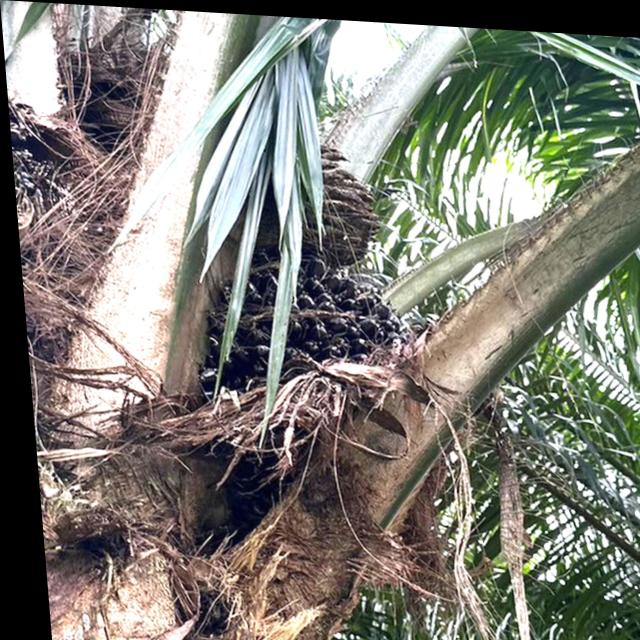unripe: (187, 254, 431, 513)
